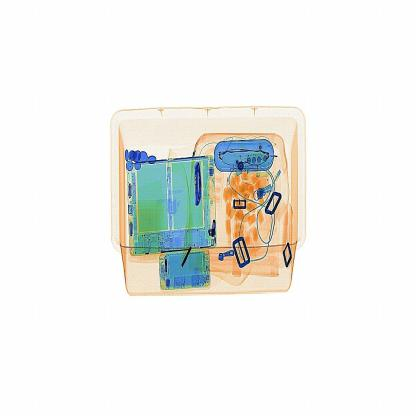knife: (188, 154, 209, 222)
